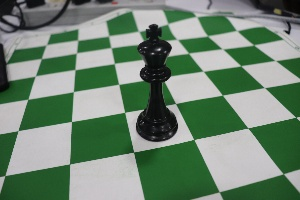black_king: (126, 13, 180, 150)
